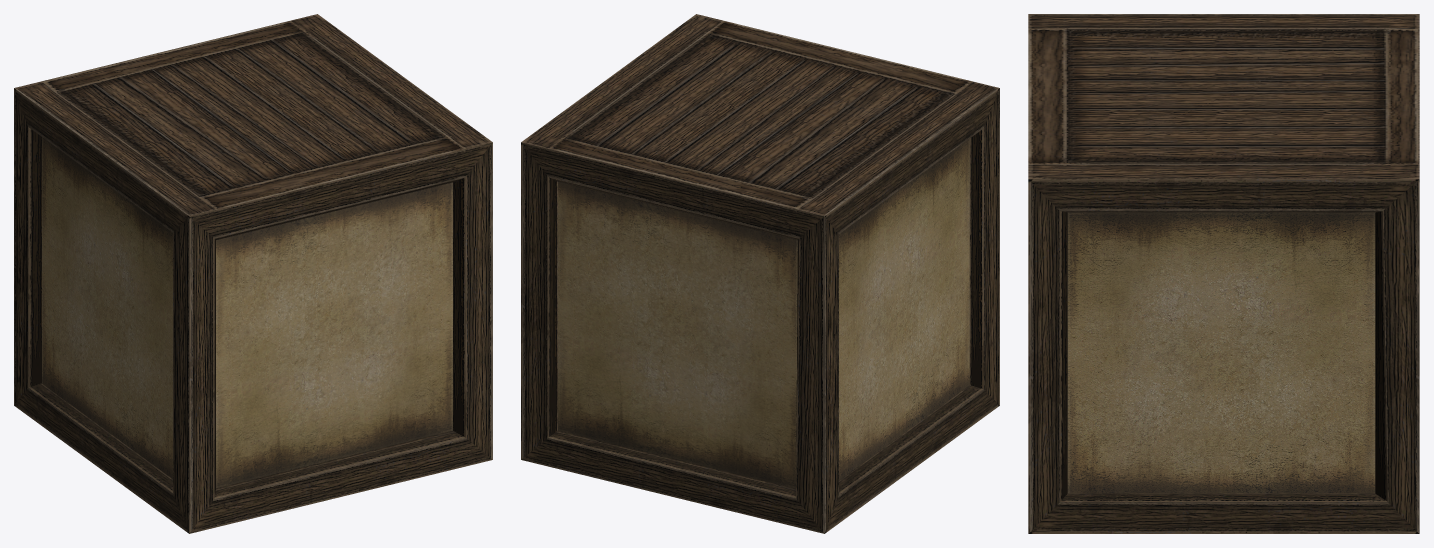
Rendered from House_4X4_05a.fbx.
3 views of the same model, side by side, from view 1: azimuth 30°, elevation 25°; view 2: azimuth 150°, elevation 25°; view 3: azimuth 270°, elevation 25° (orthographic). The views are drawn at different scales.
Visible parts, largest first — view 1: House_4X4_05a; view 2: House_4X4_05a; view 3: House_4X4_05a.
Boxes of the visible parts, x1,y1,x2,y2 form: House_4X4_05a: (14,14,492,533); House_4X4_05a: (521,14,999,533); House_4X4_05a: (1028,14,1419,533).
Size of the model in its own units: 4 by 4 by 4.
